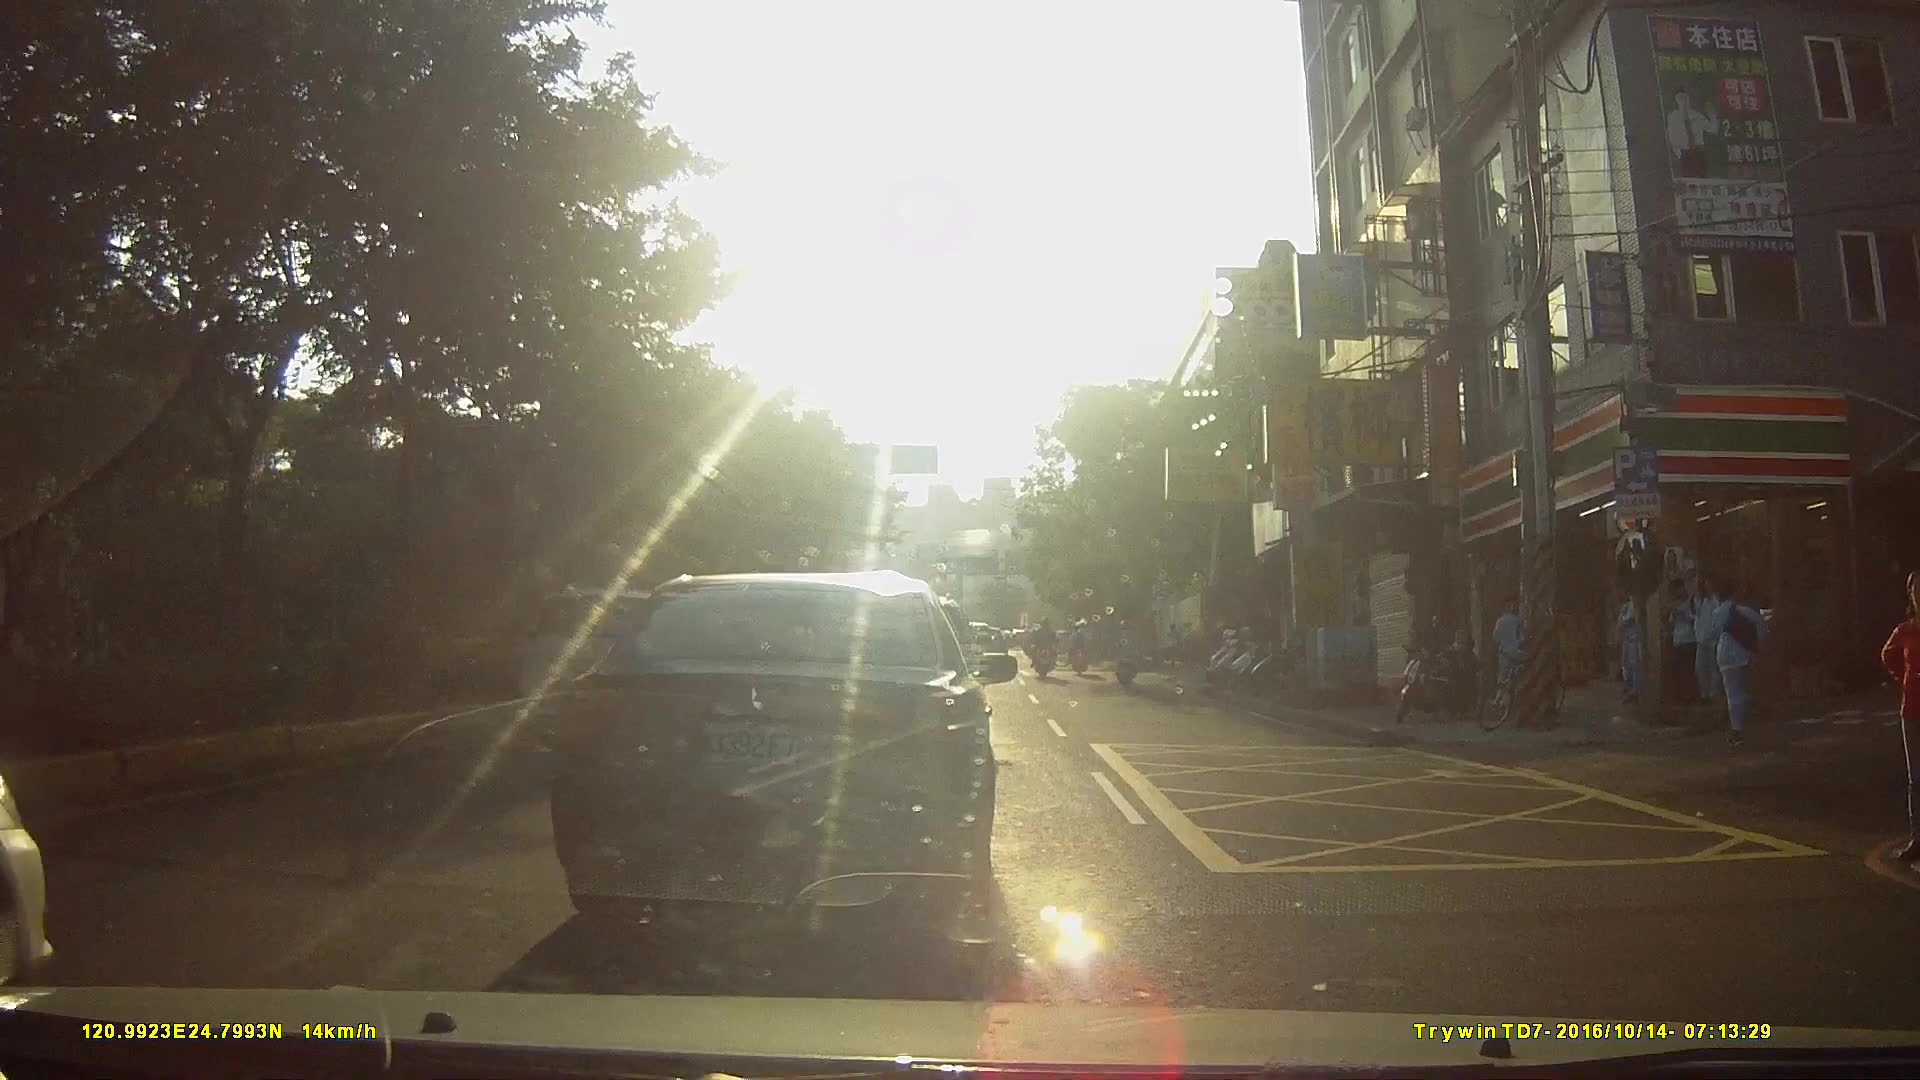pedestrian: (1696, 581, 1771, 753), (1885, 567, 1920, 854), (1664, 569, 1701, 709), (1493, 596, 1534, 709), (1618, 583, 1655, 708)
rider: (1030, 616, 1060, 680), (1067, 619, 1097, 681), (1117, 619, 1141, 690)
vehicle: (532, 568, 1025, 962), (0, 633, 184, 1000)
